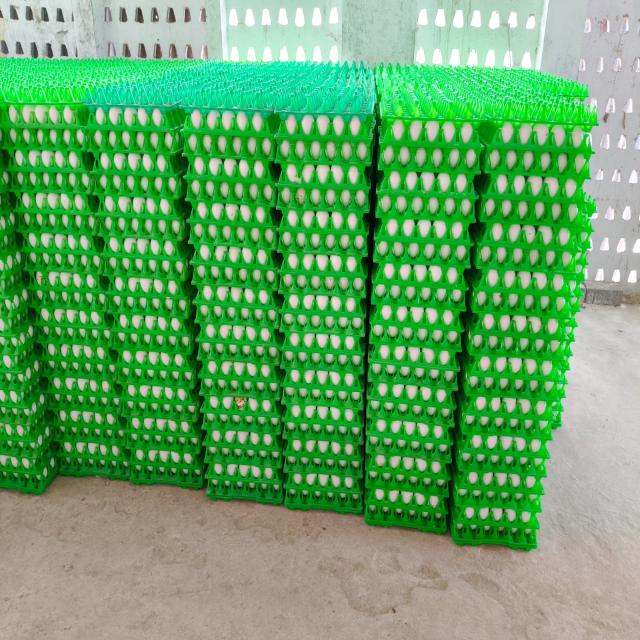egg_tray: (452, 126, 588, 547), (278, 113, 372, 512), (19, 193, 126, 476), (185, 108, 280, 404), (190, 201, 282, 502), (190, 202, 282, 503), (373, 69, 481, 309), (107, 235, 203, 486), (281, 247, 366, 511), (196, 245, 282, 503), (190, 201, 281, 442), (365, 305, 462, 531), (281, 294, 364, 512), (371, 171, 475, 343), (365, 345, 457, 530), (190, 202, 279, 392), (480, 122, 592, 268), (445, 70, 596, 176), (472, 185, 593, 314), (184, 107, 275, 276), (114, 314, 203, 486), (282, 326, 364, 512), (452, 394, 552, 541), (282, 332, 364, 511), (0, 60, 162, 150), (201, 325, 282, 503), (372, 185, 475, 324), (282, 316, 364, 488), (0, 256, 57, 492), (451, 413, 550, 546), (372, 183, 475, 310), (462, 312, 575, 426), (368, 291, 462, 428), (0, 60, 163, 139), (190, 202, 279, 342), (466, 312, 575, 426), (460, 316, 572, 425), (282, 363, 364, 511), (452, 411, 552, 532), (25, 251, 114, 385), (374, 171, 476, 285), (98, 194, 194, 315), (456, 356, 562, 465), (189, 202, 281, 327), (468, 223, 585, 318), (30, 271, 118, 396), (14, 183, 101, 309), (11, 106, 89, 245), (196, 284, 280, 412), (372, 203, 472, 308), (112, 294, 198, 415), (193, 242, 280, 361), (0, 311, 57, 492), (188, 191, 280, 303), (280, 294, 364, 416), (378, 83, 481, 180), (47, 355, 128, 478), (43, 310, 119, 441), (280, 252, 366, 367), (374, 172, 477, 268), (365, 418, 452, 531), (122, 371, 203, 487), (87, 106, 187, 199), (368, 322, 460, 423), (277, 114, 373, 210), (372, 219, 472, 311), (282, 332, 364, 441), (376, 66, 481, 151), (185, 110, 277, 207), (464, 314, 575, 394), (203, 391, 282, 503), (283, 403, 364, 512), (478, 175, 594, 251), (456, 376, 557, 463), (376, 67, 480, 151), (198, 309, 281, 412), (180, 62, 290, 139), (204, 395, 282, 502), (204, 396, 282, 503), (204, 396, 282, 502), (189, 202, 281, 291), (280, 242, 368, 335), (450, 461, 543, 548), (478, 181, 594, 250), (481, 117, 593, 187), (4, 104, 92, 192), (82, 59, 191, 130), (365, 441, 450, 532), (16, 188, 102, 276), (98, 155, 188, 239), (276, 63, 375, 139), (477, 182, 594, 246), (368, 341, 459, 423), (470, 289, 577, 358), (374, 214, 472, 287), (483, 137, 592, 201), (188, 201, 279, 277), (276, 113, 374, 183), (472, 220, 587, 279), (476, 215, 586, 274), (93, 131, 186, 200), (190, 230, 281, 300), (369, 305, 462, 373), (86, 106, 184, 170), (184, 109, 279, 175), (481, 142, 593, 196), (378, 117, 482, 174), (51, 397, 126, 476), (284, 437, 363, 512), (284, 439, 364, 513), (0, 391, 57, 492), (456, 409, 552, 468), (54, 402, 128, 478), (0, 301, 46, 423), (276, 127, 374, 184), (280, 252, 367, 316), (465, 311, 576, 361), (102, 231, 190, 294), (127, 416, 204, 488), (0, 103, 86, 167), (15, 190, 102, 253), (469, 268, 580, 316), (0, 273, 41, 402), (53, 410, 129, 479), (185, 108, 278, 164), (0, 290, 44, 405), (376, 172, 477, 221), (367, 369, 455, 424), (0, 316, 45, 423), (0, 285, 41, 402), (278, 207, 369, 258), (372, 261, 468, 309), (364, 479, 448, 533), (186, 157, 276, 207), (184, 133, 274, 183), (95, 195, 190, 242), (449, 501, 541, 549), (0, 417, 58, 493), (200, 355, 281, 409), (23, 221, 102, 276), (278, 162, 370, 209), (449, 502, 539, 549), (279, 252, 367, 299), (458, 380, 556, 422), (284, 434, 363, 486), (25, 262, 107, 312), (2, 126, 91, 172), (106, 271, 195, 317), (278, 169, 370, 212), (128, 437, 204, 489), (120, 413, 202, 461), (277, 111, 374, 151), (94, 146, 186, 188), (282, 363, 364, 410), (206, 453, 282, 503), (280, 293, 366, 337), (284, 466, 363, 513), (10, 147, 92, 192), (280, 331, 365, 374), (368, 417, 452, 460), (41, 333, 116, 381), (194, 285, 281, 326), (198, 323, 282, 365), (118, 346, 198, 390), (14, 185, 92, 230), (112, 312, 197, 353), (0, 154, 25, 290), (35, 306, 112, 346), (0, 164, 24, 291), (94, 168, 186, 198), (30, 246, 94, 289), (10, 160, 93, 193), (2, 101, 86, 133), (39, 303, 99, 346), (208, 467, 281, 501), (0, 210, 25, 287), (288, 486, 361, 510), (233, 431, 272, 456), (50, 393, 96, 413), (0, 149, 13, 219), (374, 276, 415, 298), (305, 317, 353, 333), (437, 278, 463, 306), (509, 195, 575, 206), (66, 257, 101, 277), (50, 375, 90, 392), (506, 123, 531, 145), (0, 126, 6, 192), (282, 313, 303, 330), (57, 339, 75, 358), (156, 358, 175, 375), (337, 152, 366, 163), (0, 125, 6, 171), (519, 317, 542, 329), (483, 185, 504, 198), (2, 300, 19, 316), (488, 357, 506, 372), (378, 263, 397, 277), (302, 297, 340, 304), (136, 351, 160, 362), (569, 131, 585, 147), (477, 396, 498, 408), (519, 381, 541, 392), (31, 276, 46, 290), (462, 380, 470, 405), (531, 361, 545, 375), (70, 205, 81, 222), (427, 308, 438, 325), (77, 234, 90, 247), (48, 260, 64, 270), (417, 266, 429, 279), (242, 448, 259, 457), (430, 266, 441, 279), (292, 426, 306, 436), (238, 370, 253, 379), (280, 147, 292, 158), (2, 221, 12, 234), (32, 277, 46, 286), (85, 290, 98, 298), (195, 162, 206, 171), (260, 327, 267, 341), (232, 479, 244, 487), (261, 252, 268, 265), (446, 310, 453, 323), (113, 437, 123, 446), (211, 264, 217, 279), (578, 196, 588, 205), (231, 380, 242, 388), (21, 198, 32, 206), (138, 369, 155, 374), (91, 347, 105, 353), (310, 212, 322, 219), (119, 352, 126, 364), (288, 478, 300, 485), (444, 363, 454, 371), (0, 178, 6, 191), (247, 450, 258, 457), (225, 261, 236, 268), (547, 318, 558, 325), (265, 228, 274, 236), (27, 232, 37, 239), (12, 149, 22, 156), (40, 233, 51, 239), (475, 400, 486, 406), (6, 226, 14, 234), (296, 151, 304, 159), (496, 228, 502, 238), (67, 292, 77, 298), (223, 482, 230, 490), (173, 354, 181, 361), (0, 371, 7, 379), (226, 265, 233, 273), (249, 449, 258, 455), (113, 179, 119, 188), (548, 390, 554, 399), (542, 273, 555, 277), (518, 272, 528, 277), (394, 349, 401, 356), (505, 272, 513, 278), (374, 286, 380, 294), (416, 344, 420, 356), (0, 194, 9, 199), (327, 156, 336, 161), (562, 257, 567, 266), (229, 247, 240, 251), (233, 447, 244, 451), (582, 228, 589, 234), (9, 135, 16, 141), (576, 247, 583, 253), (96, 170, 102, 177), (558, 282, 564, 289), (118, 206, 125, 212), (88, 221, 93, 229), (137, 158, 142, 166), (438, 174, 448, 178), (429, 174, 437, 179), (331, 478, 336, 486), (415, 274, 423, 279), (421, 331, 426, 339), (311, 155, 319, 160), (0, 130, 3, 143), (404, 267, 410, 273), (206, 293, 212, 299), (426, 319, 432, 325), (66, 362, 75, 366), (254, 303, 259, 310), (522, 372, 527, 379), (578, 194, 583, 201), (375, 330, 382, 335), (211, 267, 216, 274), (234, 307, 242, 311), (218, 447, 226, 451), (276, 445, 280, 453), (209, 398, 217, 402), (543, 414, 551, 418), (407, 282, 415, 286), (534, 181, 539, 187), (403, 273, 408, 279), (358, 360, 363, 366), (11, 372, 17, 377), (47, 291, 52, 297), (206, 261, 210, 268), (95, 347, 102, 351), (348, 298, 357, 301), (55, 427, 58, 436), (35, 110, 38, 119), (239, 265, 244, 270), (227, 307, 233, 311), (26, 219, 32, 223), (128, 154, 136, 157), (81, 419, 85, 425), (31, 256, 35, 262), (401, 311, 405, 317), (451, 354, 454, 362), (504, 219, 511, 222), (471, 471, 478, 474), (53, 234, 60, 237), (2, 213, 5, 220), (372, 318, 379, 321), (501, 316, 508, 319), (403, 274, 410, 277), (68, 447, 72, 452), (110, 364, 114, 369), (353, 217, 357, 222), (324, 212, 328, 217), (186, 457, 190, 462), (225, 431, 230, 435), (64, 235, 74, 237), (255, 317, 260, 321), (0, 108, 2, 118), (212, 293, 216, 298), (215, 450, 219, 455), (228, 371, 233, 375), (314, 343, 318, 348), (60, 292, 64, 297), (560, 318, 564, 323), (94, 131, 99, 135), (527, 237, 531, 242), (111, 355, 114, 361), (0, 280, 6, 283), (250, 278, 256, 281), (210, 466, 213, 472), (205, 404, 208, 410), (240, 363, 248, 365), (156, 155, 160, 159), (0, 155, 2, 163), (16, 274, 20, 278), (490, 398, 494, 402), (305, 334, 313, 336), (78, 223, 82, 227), (45, 161, 49, 165), (324, 165, 328, 169), (112, 452, 117, 455), (51, 139, 56, 142), (578, 265, 581, 270), (246, 289, 251, 292), (514, 374, 517, 379), (377, 270, 380, 275), (283, 316, 286, 321), (290, 294, 295, 297), (551, 284, 554, 289), (240, 467, 245, 470), (351, 360, 354, 365), (410, 178, 412, 185), (0, 110, 2, 117), (505, 214, 508, 218), (16, 150, 20, 153), (303, 212, 307, 215), (26, 139, 30, 142), (222, 425, 226, 428), (521, 398, 525, 401), (223, 398, 227, 401), (507, 166, 510, 170), (46, 152, 52, 154), (56, 151, 62, 153), (88, 284, 92, 287), (221, 327, 224, 331), (283, 358, 285, 364), (71, 246, 74, 250), (196, 316, 198, 321), (41, 327, 43, 332), (341, 213, 346, 215), (82, 236, 87, 238), (190, 165, 192, 170), (154, 279, 159, 281), (31, 301, 33, 306), (356, 318, 358, 323), (243, 437, 245, 442), (440, 174, 445, 176), (499, 260, 502, 263), (16, 150, 19, 153), (516, 484, 519, 487), (243, 487, 246, 490), (28, 151, 31, 154), (24, 150, 27, 153), (437, 488, 440, 491), (445, 71, 448, 74), (287, 358, 290, 361), (432, 317, 435, 320), (404, 307, 407, 310), (22, 194, 25, 197), (562, 329, 565, 332), (314, 213, 317, 216), (304, 334, 307, 337), (338, 167, 341, 170), (292, 145, 295, 148), (238, 314, 242, 316), (56, 152, 60, 154), (526, 369, 528, 373), (25, 94, 27, 98), (50, 239, 54, 241), (536, 181, 540, 183), (526, 531, 530, 533), (502, 132, 504, 136), (351, 171, 353, 175), (230, 390, 234, 392), (526, 238, 528, 242), (484, 316, 488, 318), (326, 213, 328, 217), (288, 165, 295, 166), (482, 260, 485, 262), (498, 256, 500, 259), (505, 377, 508, 379), (231, 426, 234, 428), (390, 274, 392, 277), (207, 257, 210, 259), (203, 314, 206, 316), (494, 402, 497, 404), (168, 183, 170, 186), (222, 149, 224, 152), (170, 281, 173, 283), (462, 175, 464, 178), (417, 289, 420, 291), (402, 266, 404, 269), (400, 266, 402, 269), (191, 372, 193, 375), (295, 294, 297, 297), (50, 282, 53, 284), (269, 349, 272, 351), (585, 138, 588, 140), (53, 417, 55, 420), (533, 417, 536, 419), (354, 305, 355, 311), (19, 162, 22, 164), (240, 256, 242, 259), (481, 212, 482, 217), (35, 151, 40, 152), (479, 293, 484, 294), (551, 363, 552, 368), (332, 479, 333, 484), (307, 165, 312, 166), (108, 434, 110, 436), (490, 211, 492, 213), (70, 411, 74, 412), (509, 366, 511, 368), (526, 363, 528, 365), (318, 116, 322, 117), (89, 236, 91, 238), (233, 160, 235, 162), (2, 194, 6, 195), (288, 65, 292, 66), (89, 302, 90, 306), (36, 151, 40, 152), (122, 367, 124, 369), (335, 304, 336, 308), (273, 237, 274, 241), (211, 452, 213, 454), (276, 412, 278, 414), (244, 380, 246, 382), (563, 261, 565, 263), (529, 230, 530, 234), (17, 373, 18, 377), (356, 483, 358, 485), (496, 301, 498, 303), (54, 305, 56, 307), (245, 253, 246, 257), (389, 282, 391, 284), (374, 276, 376, 278), (286, 432, 287, 435), (71, 152, 74, 153), (200, 482, 201, 485), (215, 267, 218, 268), (513, 538, 516, 539), (164, 416, 167, 417), (51, 158, 52, 161), (42, 151, 45, 152), (218, 265, 221, 266), (0, 115, 1, 118), (514, 231, 517, 232), (408, 347, 411, 348), (43, 300, 46, 301), (60, 300, 63, 301), (109, 209, 112, 210), (353, 343, 354, 346), (79, 451, 81, 452), (484, 211, 486, 212), (200, 305, 202, 306), (42, 151, 44, 152), (30, 151, 31, 153), (480, 471, 482, 472), (552, 183, 554, 184), (453, 381, 454, 383), (91, 236, 92, 238), (246, 318, 248, 319), (258, 314, 260, 315), (236, 300, 238, 301), (246, 485, 248, 486), (210, 483, 211, 485), (220, 471, 222, 472), (216, 452, 217, 454), (203, 373, 204, 375), (191, 411, 193, 412), (328, 342, 330, 343), (474, 260, 475, 262), (376, 443, 378, 444), (91, 300, 93, 301), (258, 278, 260, 279), (492, 457, 493, 459), (556, 377, 557, 379), (276, 421, 278, 422), (220, 389, 222, 390), (330, 365, 331, 367), (345, 318, 346, 320), (304, 489, 306, 490), (84, 201, 85, 203), (21, 166, 22, 168), (78, 115, 79, 117), (547, 324, 548, 326), (572, 322, 574, 323), (463, 71, 464, 73), (288, 362, 289, 364), (362, 308, 363, 310), (424, 274, 426, 275), (404, 269, 405, 271), (440, 332, 441, 334), (448, 331, 450, 332), (481, 187, 482, 189), (243, 165, 244, 167), (260, 312, 261, 313), (540, 509, 541, 510), (347, 216, 348, 217), (358, 214, 359, 215), (547, 361, 548, 362), (50, 96, 51, 97), (185, 478, 186, 479), (358, 436, 359, 437), (25, 296, 26, 297), (514, 467, 515, 468), (578, 185, 579, 186), (13, 262, 14, 263), (5, 211, 6, 212), (116, 278, 117, 279), (78, 152, 79, 153), (165, 358, 166, 359), (0, 108, 1, 109), (585, 229, 586, 230), (58, 283, 59, 284), (458, 321, 459, 322), (267, 394, 268, 395), (498, 383, 499, 384), (538, 374, 539, 375), (505, 358, 506, 359), (94, 107, 95, 108), (218, 465, 219, 466), (312, 345, 313, 346), (565, 311, 566, 312), (87, 229, 88, 230), (83, 221, 84, 222), (116, 387, 117, 388), (354, 220, 355, 221), (227, 256, 228, 257), (347, 356, 348, 357), (311, 334, 312, 335), (121, 452, 121, 452), (116, 434, 116, 436), (80, 141, 82, 141), (100, 398, 102, 398), (572, 294, 572, 294), (290, 212, 290, 212), (304, 116, 307, 116), (14, 222, 14, 224), (278, 463, 280, 463), (203, 261, 204, 261), (330, 418, 330, 418), (324, 412, 326, 412), (272, 194, 272, 194), (0, 316, 2, 316), (243, 454, 244, 454), (112, 301, 113, 301), (194, 149, 194, 150), (358, 443, 358, 444), (500, 165, 501, 165), (409, 303, 411, 303), (123, 165, 123, 165), (132, 354, 132, 355), (314, 476, 314, 477), (310, 477, 310, 478), (240, 403, 241, 403), (498, 134, 499, 134), (536, 125, 540, 125), (43, 396, 43, 398), (566, 203, 569, 203), (425, 261, 426, 261), (401, 310, 401, 313), (494, 383, 494, 383), (218, 461, 220, 461), (208, 434, 208, 437), (230, 381, 230, 381), (260, 363, 261, 363), (116, 410, 116, 410), (387, 163, 388, 163), (454, 71, 454, 72), (321, 483, 321, 484), (192, 66, 192, 68), (392, 336, 392, 337), (432, 174, 432, 175), (316, 456, 316, 458), (80, 374, 82, 374), (90, 294, 92, 294), (58, 287, 59, 287), (487, 401, 488, 401), (363, 308, 363, 310), (254, 361, 256, 361), (318, 167, 319, 167), (396, 127, 397, 127), (530, 230, 530, 232), (241, 173, 241, 174)
